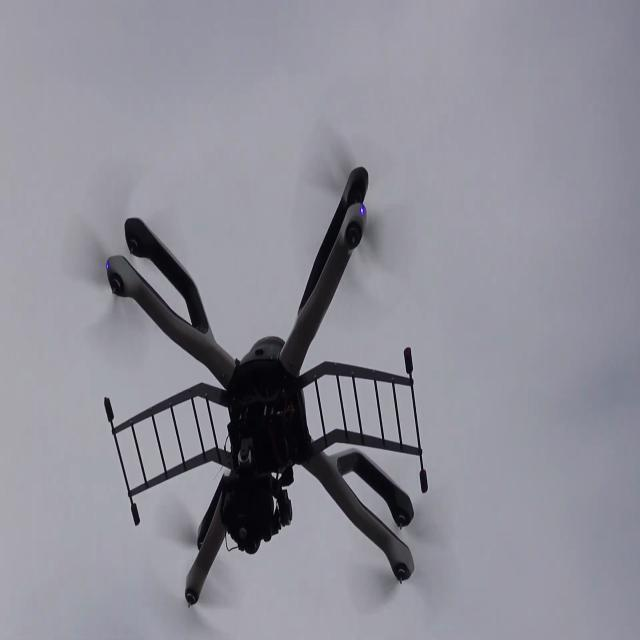drone: (80, 155, 439, 608)
